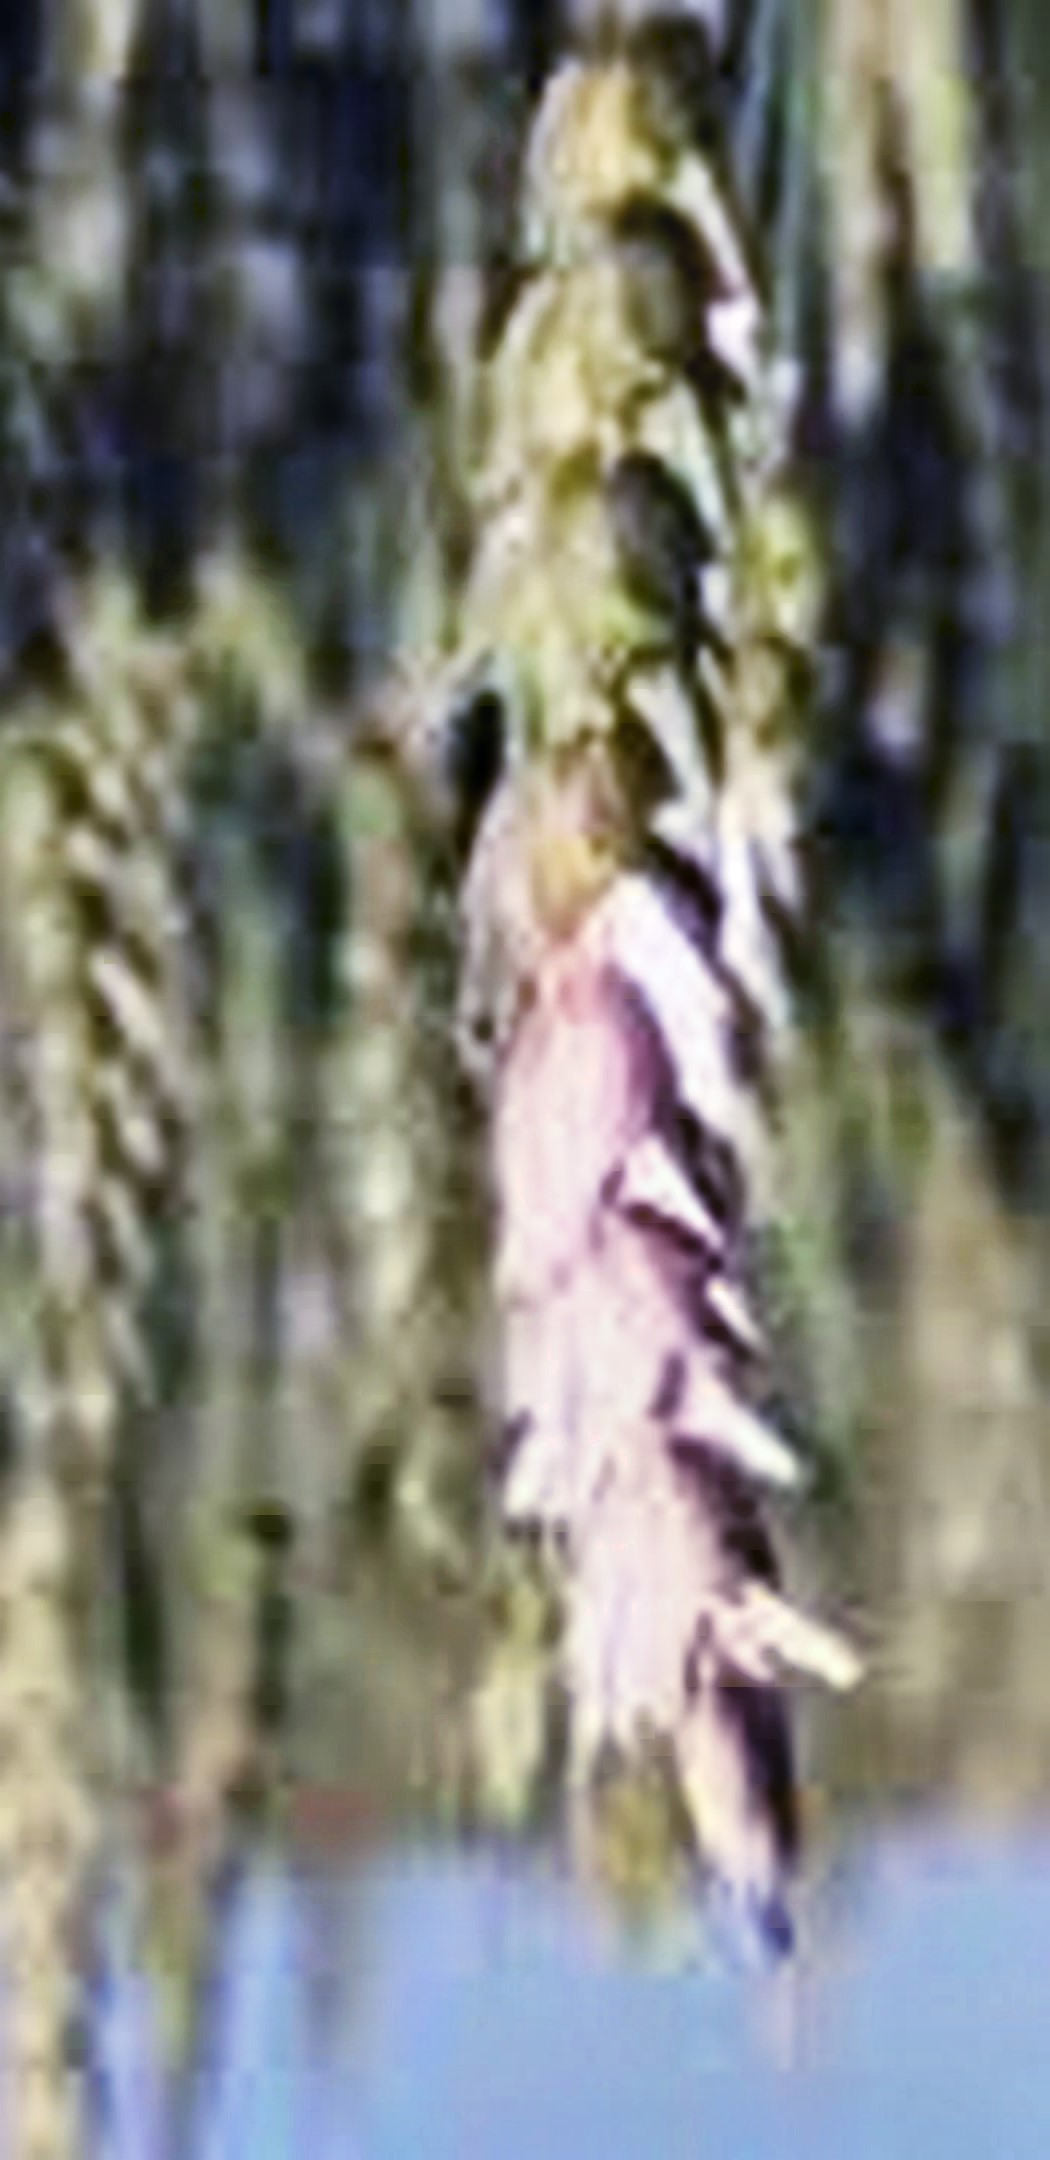Wheat scab: (395, 84, 842, 1935)
